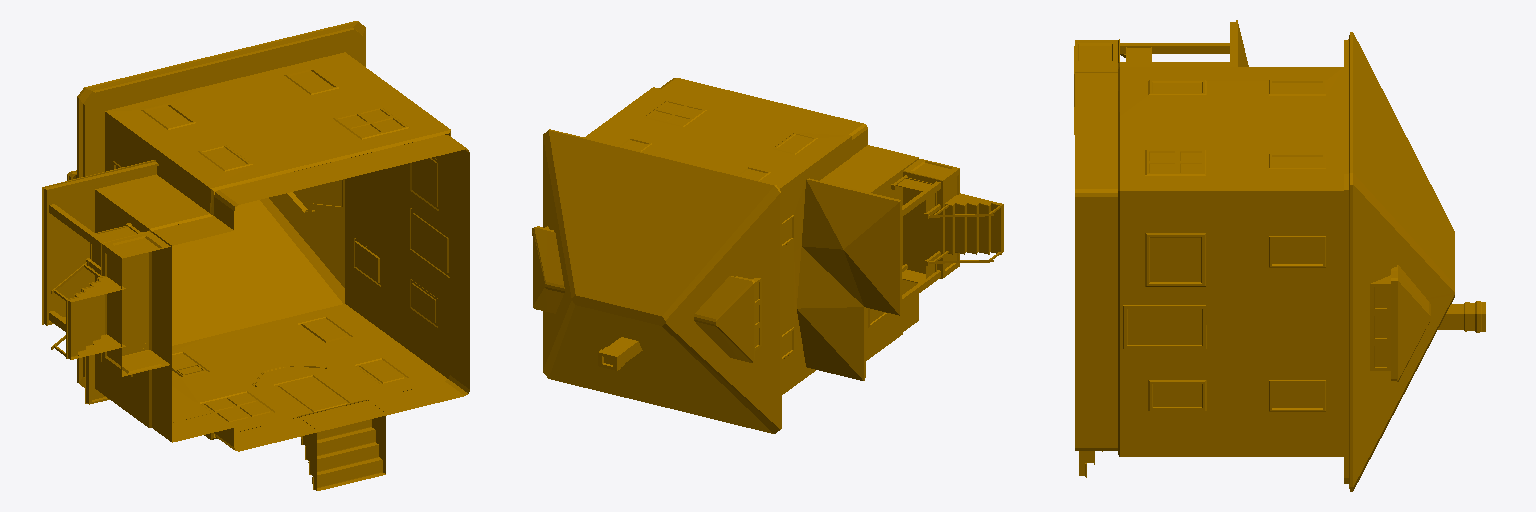
URDF robot description (myhouse):
<?xml version="1.0" ?>
<robot name="myhouse">
    <link name="base_link">
        <visual>
            <origin xyz="0 0 0" rpy="0 0 0" />
            <geometry>
                <mesh filename="package://building_model/meshes/Farm_house.dae" />
            </geometry>
            <material name="black">
                <color rgba="0.7 0.5 0 0.5" />
            </material>
        </visual>
    </link>
</robot>

--- What the picture shows (computed from the rendered views, not written in the file) ---
3 views of the same robot in one strip: view 1: azimuth 30°, elevation 25°; view 2: azimuth 150°, elevation 25°; view 3: azimuth 270°, elevation 25° (orthographic).
Robot: myhouse — 1 links, 0 joints (none); root link base_link; default pose: every joint at zero.
Visible links, largest first — view 1: base_link; view 2: base_link; view 3: base_link.
Boxes of the visible links, x1,y1,x2,y2 form: base_link: (42,21,469,490); base_link: (532,78,1003,433); base_link: (1074,20,1485,491).
Bounding box of the posed robot: 124 × 97.6 × 93.13 m (x, y, z).
1 mesh visuals loaded from 1 distinct referenced files (1 Collada DAE).
